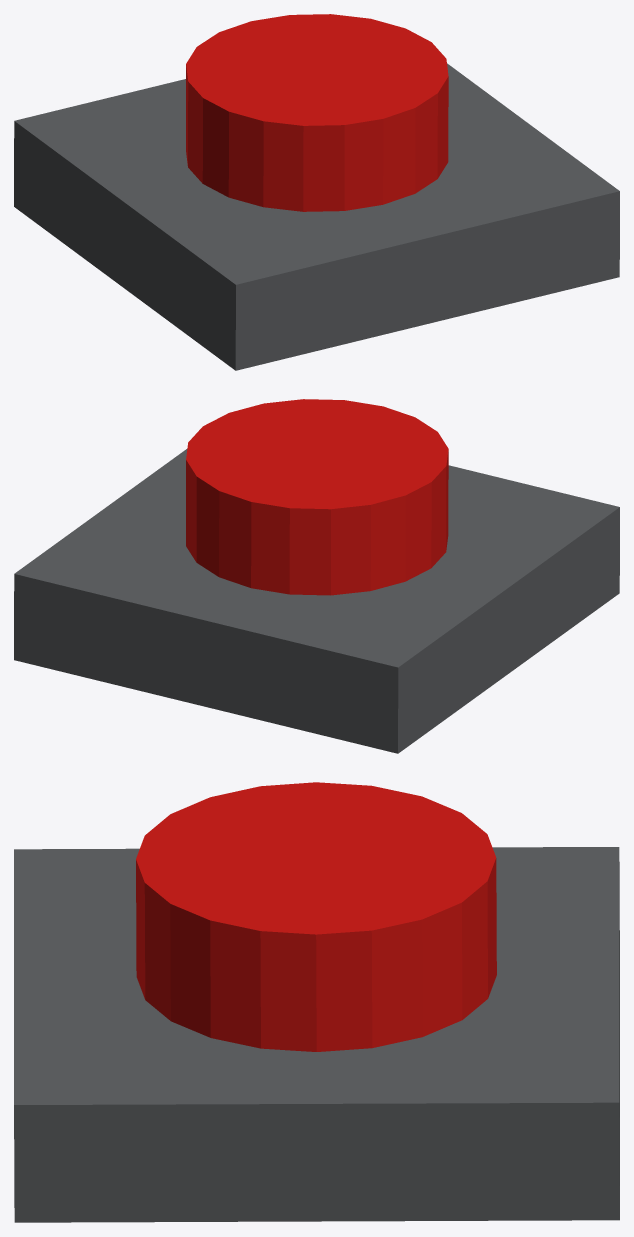
Rendered from reset_button.fbx.
3 renders of one model, top to bottom at view 1: azimuth 30°, elevation 25°; view 2: azimuth 150°, elevation 25°; view 3: azimuth 270°, elevation 25°, orthographic. The views are drawn at different scales.
Visible parts, largest first — view 1: SCN_05_ResetControl_CleanMesh; view 2: SCN_05_ResetControl_CleanMesh; view 3: SCN_05_ResetControl_CleanMesh.
Boxes of the visible parts, bbox=[...] form: SCN_05_ResetControl_CleanMesh: bbox=[14, 14, 619, 370]; SCN_05_ResetControl_CleanMesh: bbox=[14, 399, 619, 753]; SCN_05_ResetControl_CleanMesh: bbox=[14, 782, 619, 1222].
Size of the model in its own units: 0.84 by 0.3629 by 0.8408.
